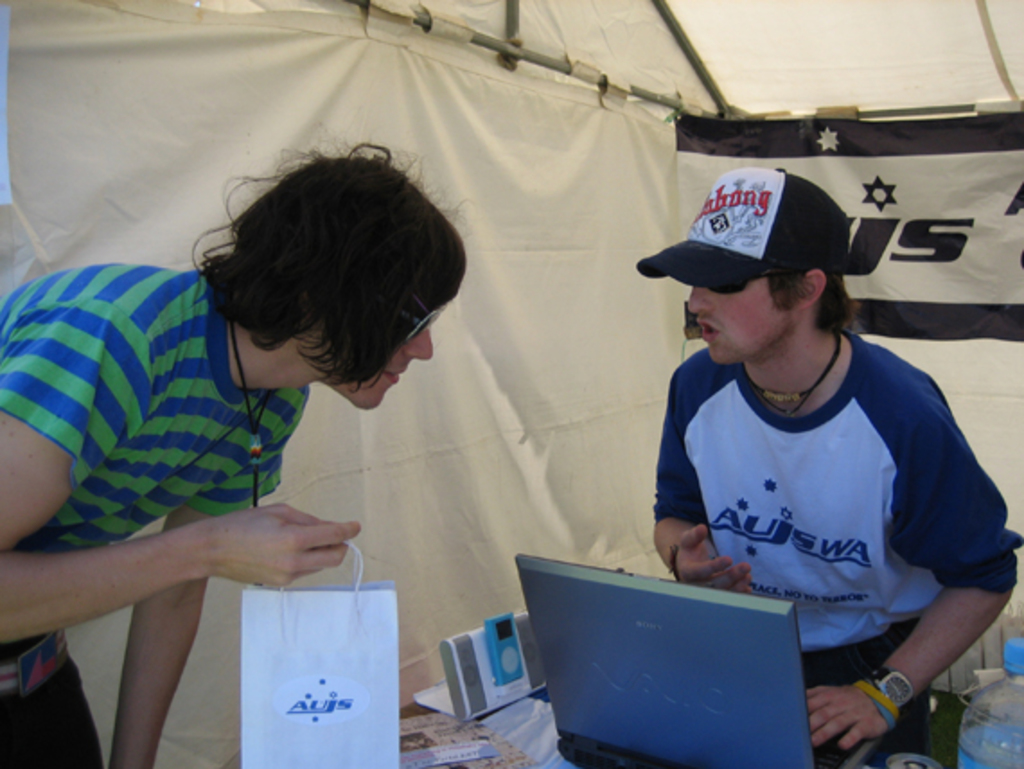Laptop: (514, 559, 844, 765)
